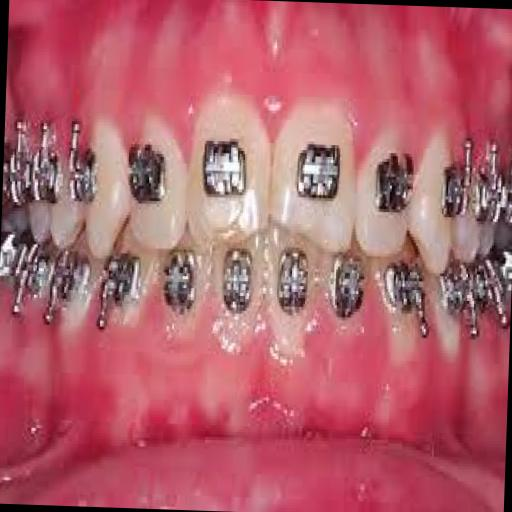correct_brace: (196, 130, 250, 210), (291, 136, 345, 214), (374, 142, 414, 227), (122, 138, 166, 211), (440, 154, 473, 228), (66, 144, 99, 209)
incorrect_brace: (351, 123, 416, 274), (128, 115, 190, 253)
